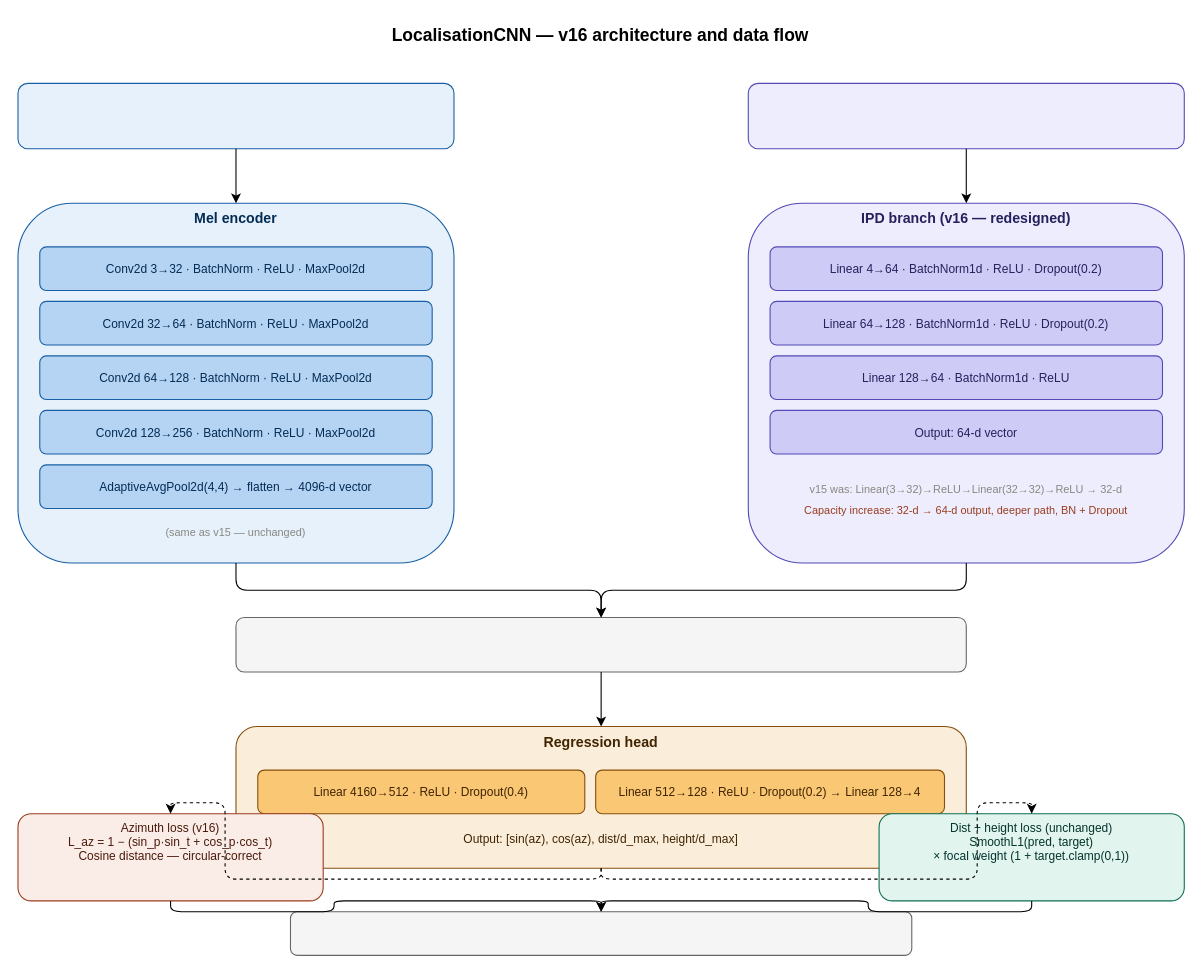
This 1202x973 diagram has some shape labels left out. Here are the shapes that lost their labels. From the top down, the centre of each, then its label:
pixel 235 115: Mel spectrogram input (B, 3, 64, T) — 3 mics × 64 mel bands × T frames
pixel 965 115: IPD + BPF ratio input (B, 4) — τ₀₁, τ₀₂, τ₁₂ (TDOA delays) + BPF energy ratio
pixel 600 644: Concatenate [4096-d mel ‖ 64-d IPD] = 4160-d fused vector
pixel 600 933: Total = 2 × L_az + 1 × L_dist + 0.7 × L_ht
